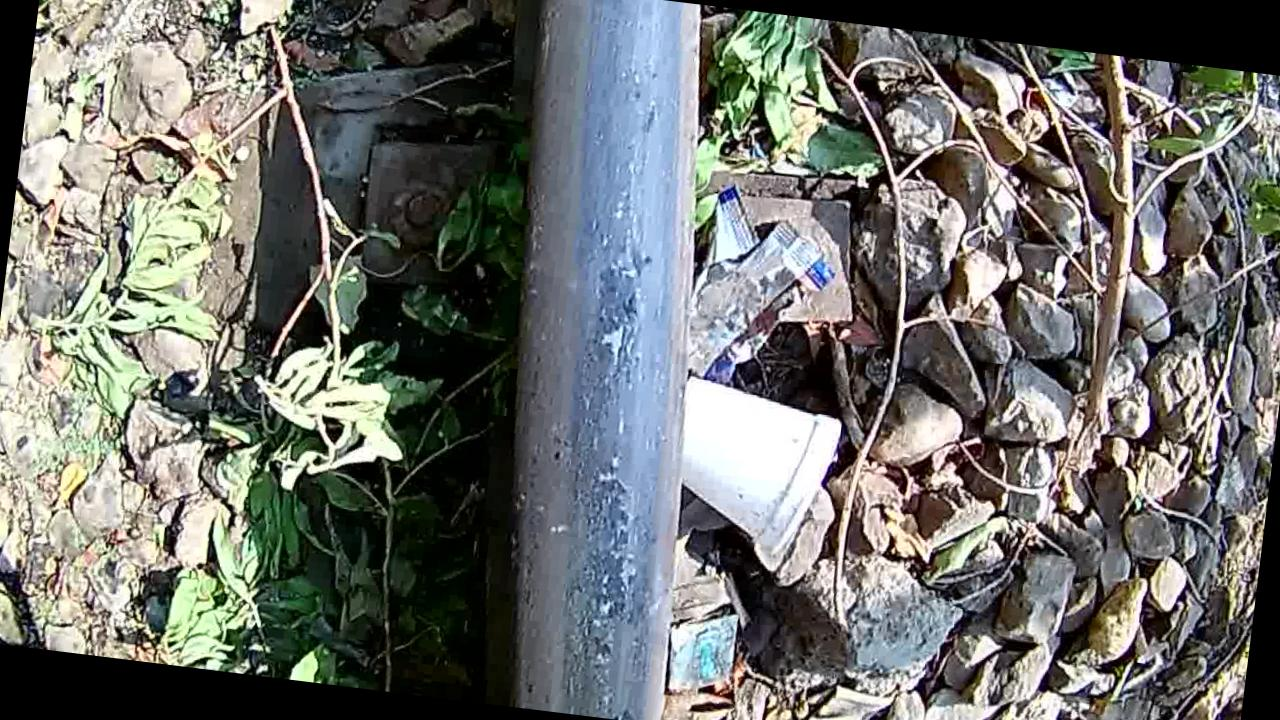crack: (469, 23, 725, 720)
